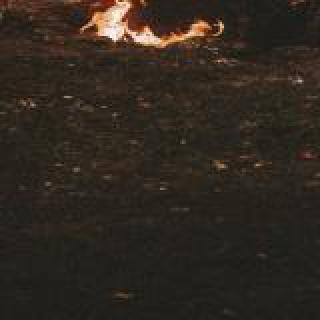fire: (60, 0, 230, 56)
